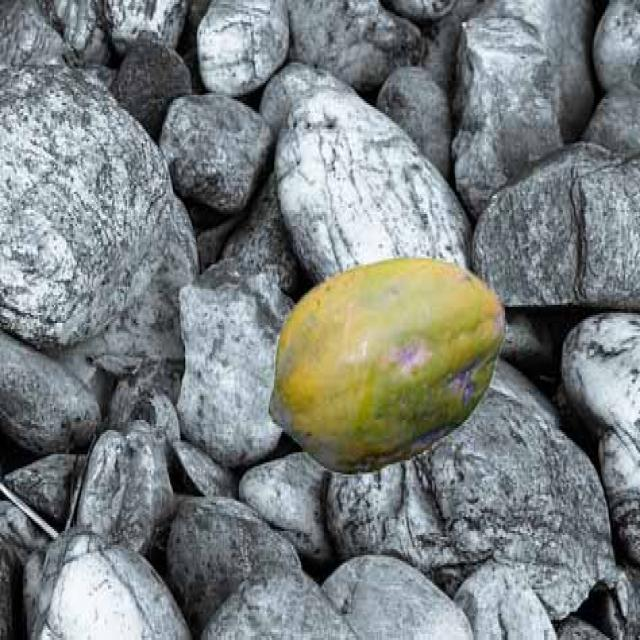Pepaya rippen: (263, 252, 509, 482)
